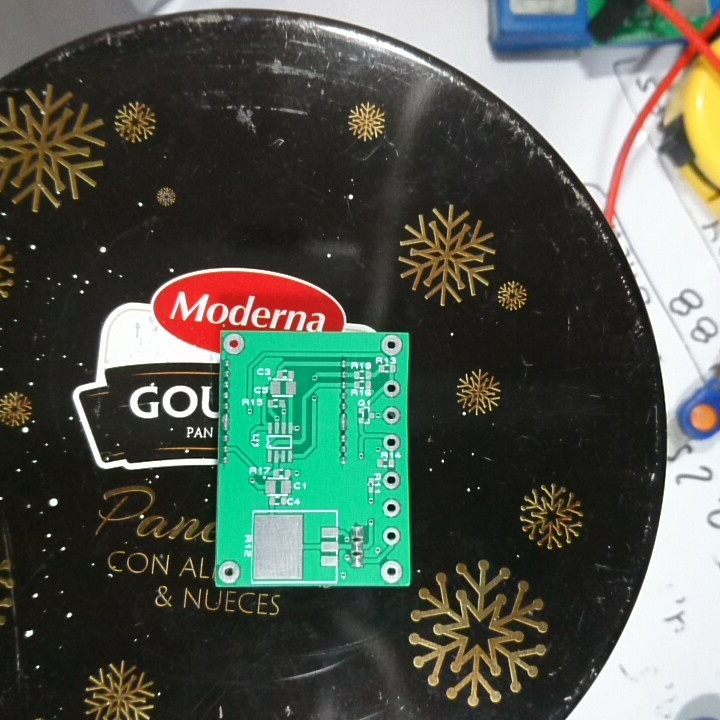F: (216, 557, 242, 586), (221, 329, 247, 355), (380, 332, 406, 357), (376, 469, 402, 493), (379, 560, 405, 584), (379, 498, 401, 519), (381, 431, 402, 452), (381, 378, 401, 399), (381, 405, 402, 425), (381, 526, 401, 546)
P: (219, 412, 233, 435), (338, 411, 350, 431)
